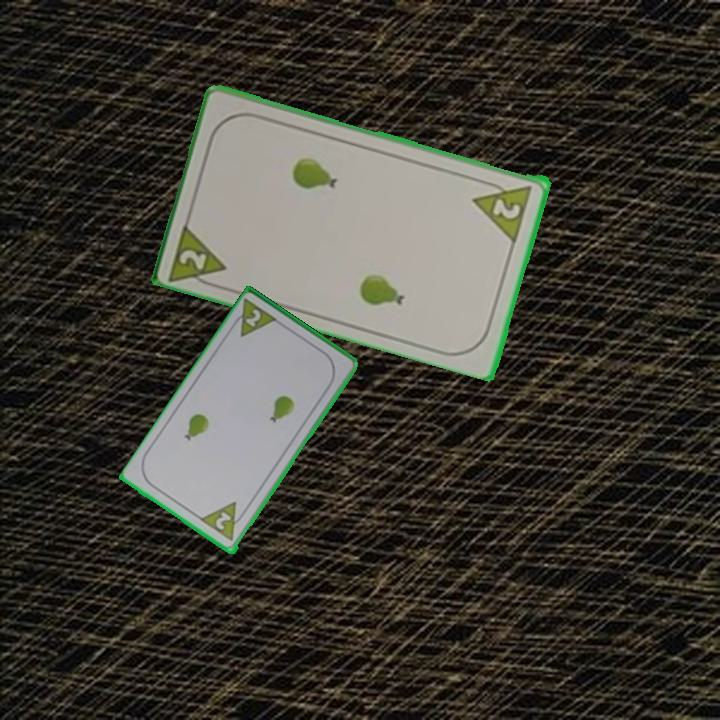2p: (165, 217, 231, 292), (470, 174, 536, 243), (212, 508, 234, 534), (242, 306, 264, 330)
